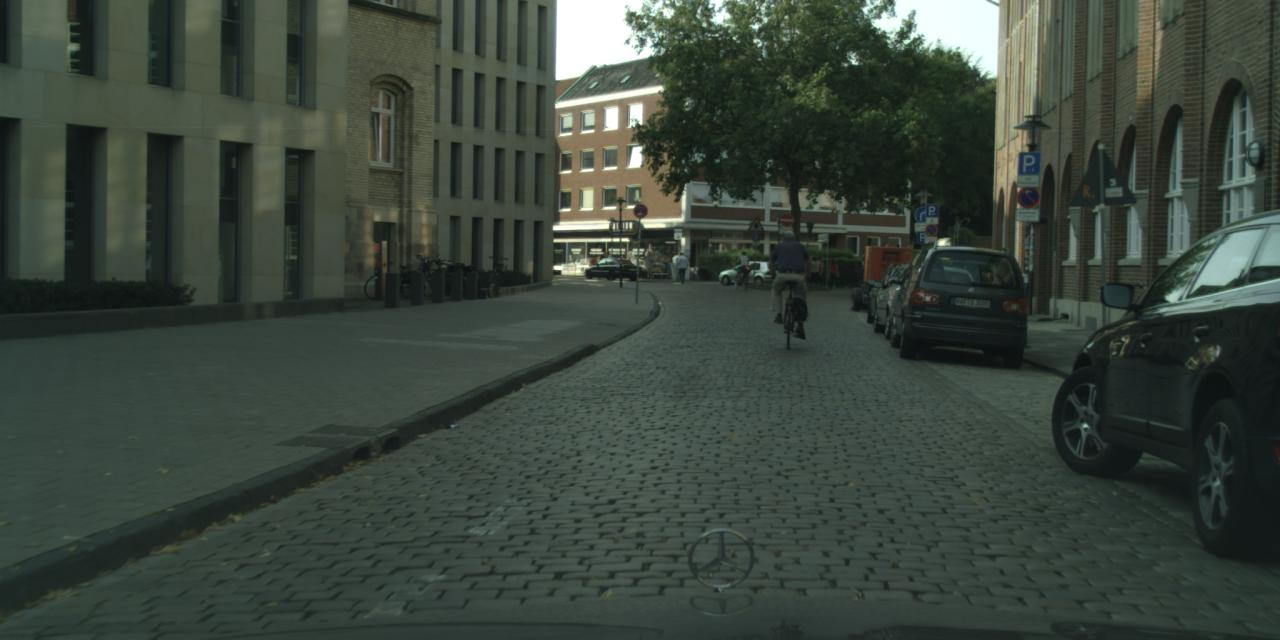ped: (768, 230, 808, 326), (800, 253, 812, 286), (736, 250, 748, 282), (826, 258, 838, 288), (809, 256, 820, 285), (814, 256, 824, 285)
